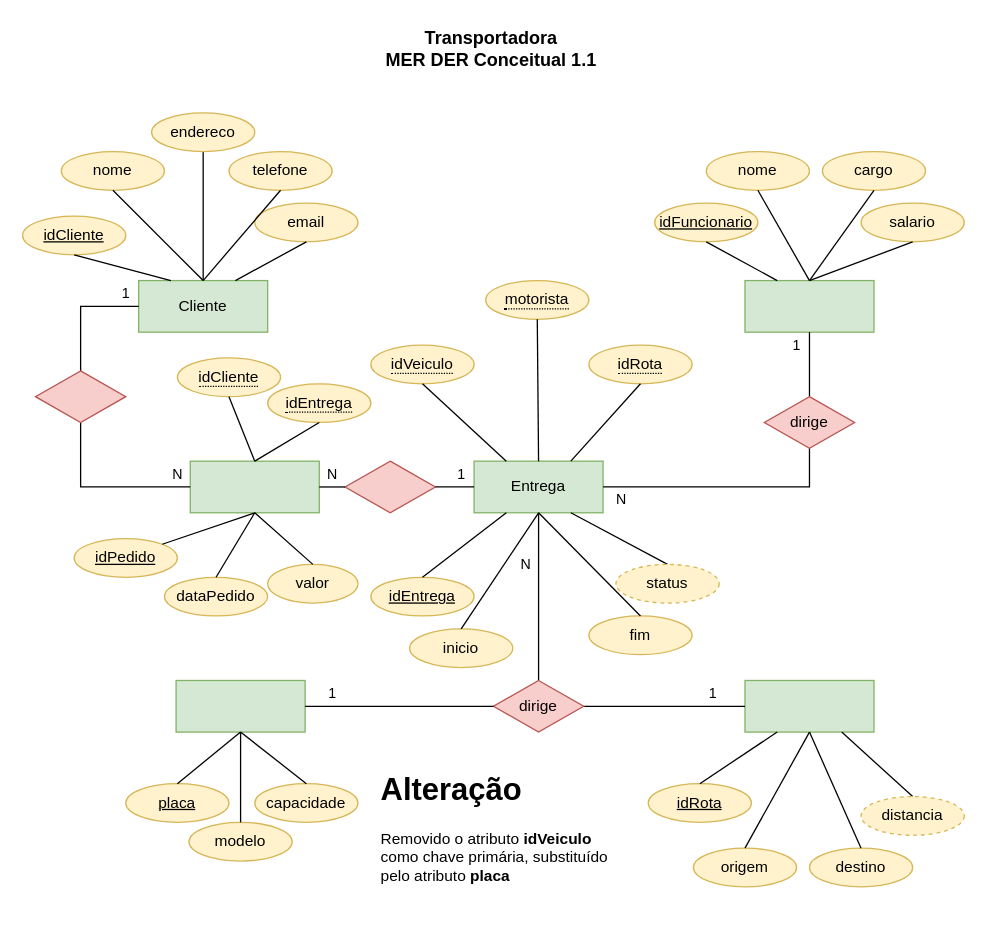
The diagram is 987 pixels wide and 940 high, and some of its shapes have lost their labels. Each missing label, with the box of its shape:
faz: (34, 370, 126, 422)
Funcionario: (744, 279, 874, 332)
Pedido: (189, 460, 319, 513)
possui: (344, 460, 435, 513)
Rota: (744, 679, 874, 732)
Veiculo: (175, 679, 305, 732)
